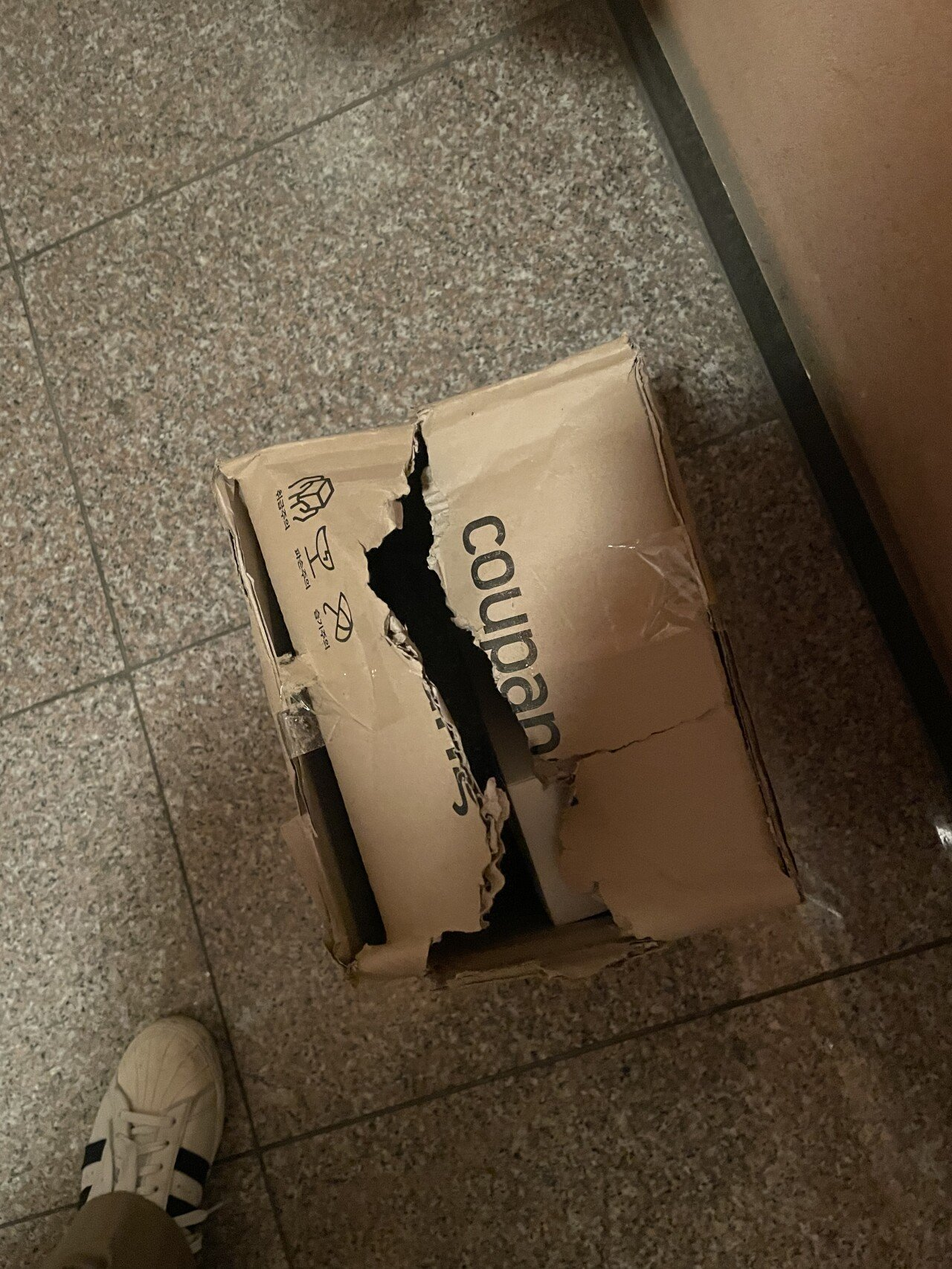damaged package: (354, 422, 650, 973)
